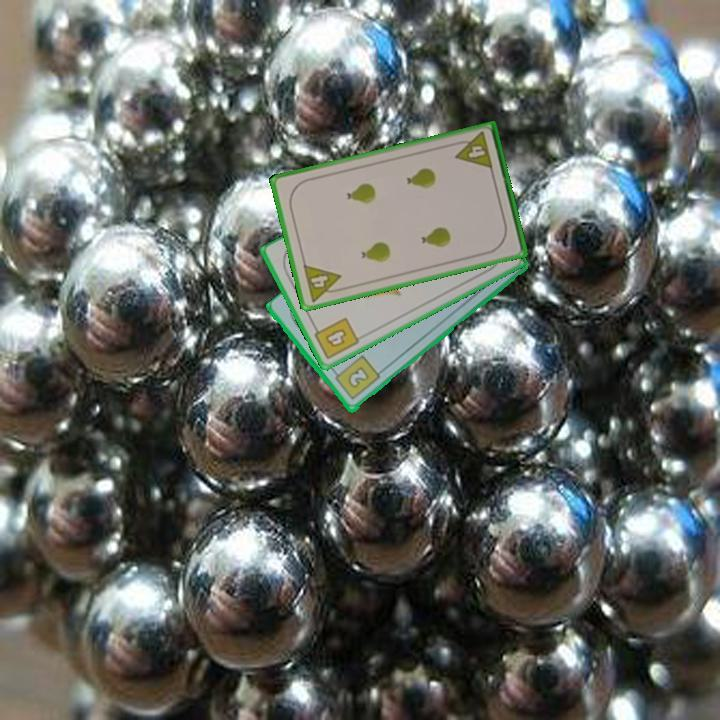2b: (329, 352, 383, 403)
4b: (309, 314, 362, 363)
4p: (300, 261, 347, 305), (450, 128, 495, 172)
